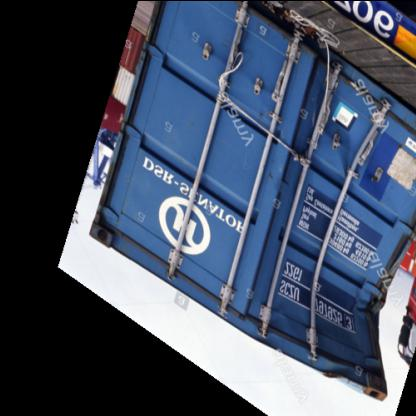Damage: (277, 70, 399, 408)
